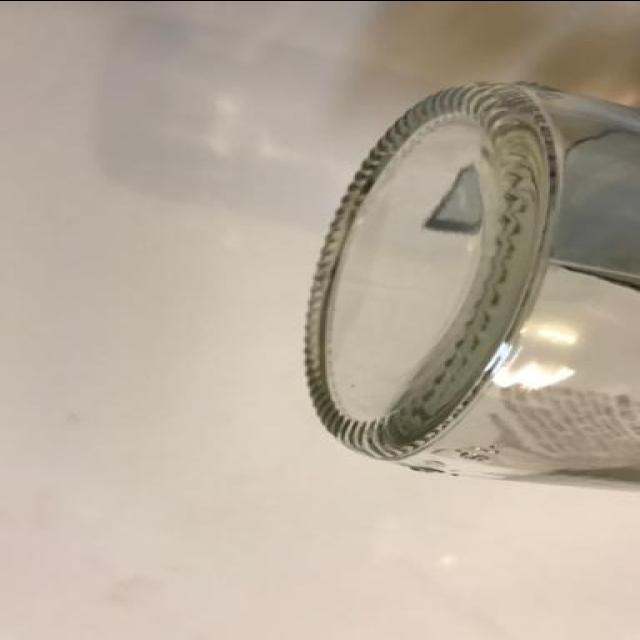litter: (294, 80, 634, 495)
